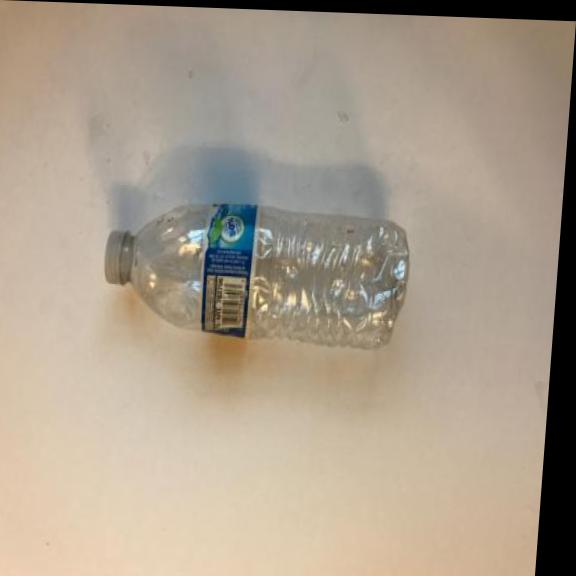Plastik: (94, 183, 420, 357)
